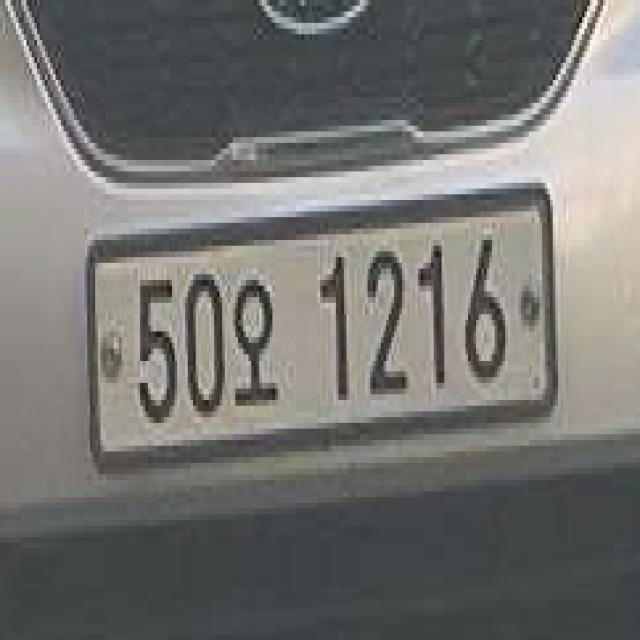0: (186, 269, 224, 427)
1: (311, 252, 351, 411), (416, 230, 453, 400)
2: (366, 232, 410, 406)
5: (138, 274, 178, 427)
6: (462, 222, 510, 393)
license_plate: (80, 160, 563, 494)
o: (231, 264, 286, 421)
